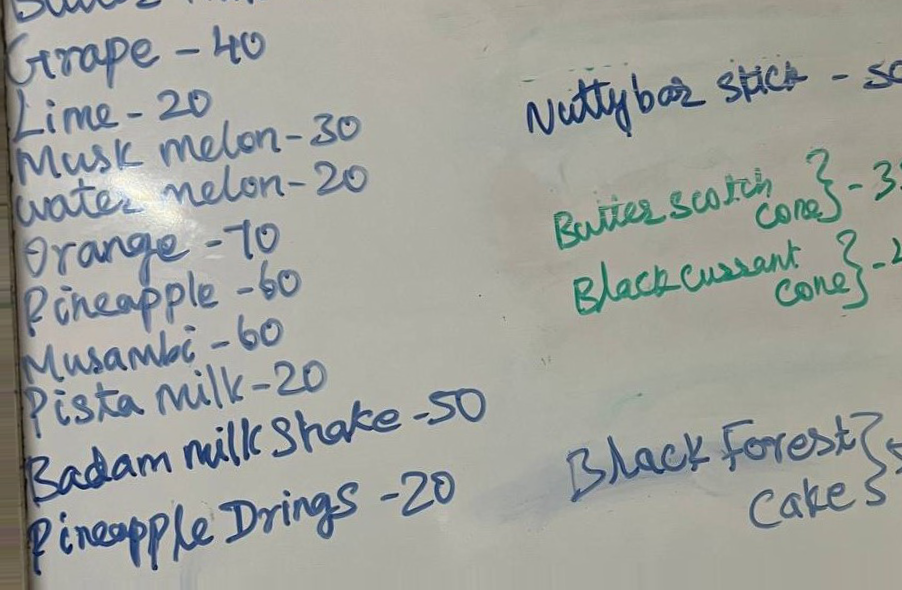badam milkshake - 50: (28, 428, 405, 489)
black current cone - 40: (572, 235, 902, 324)
black forest cake - 50: (563, 407, 902, 534)
butterscotch cone - 35: (551, 153, 900, 237)
grape - 40: (2, 24, 270, 83)
lime - 20: (6, 87, 215, 137)
musambi - 60: (27, 320, 200, 388)
musk melon - 30: (17, 129, 288, 171)
nutty bar - 30: (521, 61, 902, 129)
orange - 70: (26, 214, 283, 271)
pineapple - 60: (20, 280, 303, 321)
pineapple drink - 20: (28, 497, 361, 573)
pista milk - 20: (30, 363, 247, 444)
water melon - 20: (19, 172, 293, 219)
